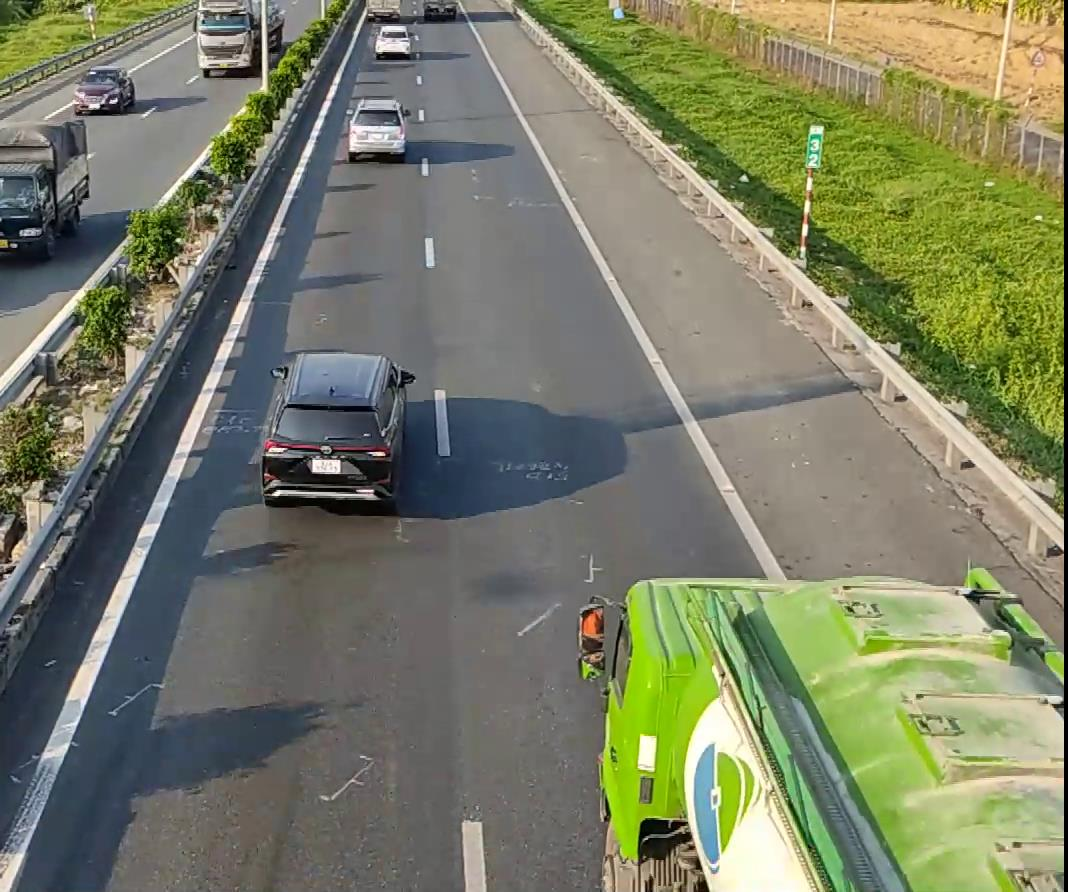car: (259, 349, 411, 506), (343, 98, 407, 162)
container: (579, 576, 1062, 886)
truck: (0, 113, 92, 261), (193, 0, 285, 77)
